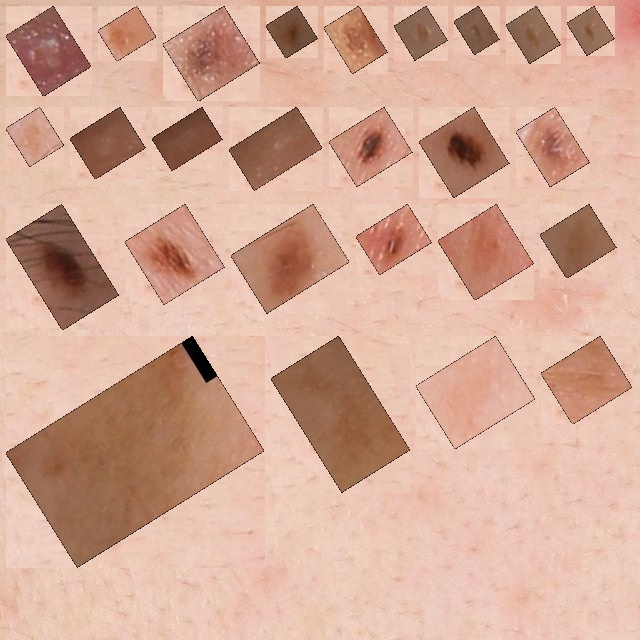hypertrophic_scar: (240, 118, 311, 179), (81, 118, 134, 168), (163, 118, 211, 159)
melasma: (17, 347, 253, 556), (282, 347, 399, 481), (427, 347, 524, 438), (242, 215, 338, 302), (449, 215, 523, 289), (552, 347, 621, 413), (551, 215, 605, 267), (335, 17, 376, 62), (17, 118, 53, 155), (517, 17, 549, 52), (405, 17, 436, 49), (578, 17, 603, 44), (465, 17, 488, 43)
nevus: (17, 215, 108, 319), (136, 215, 213, 293), (174, 17, 249, 90), (430, 118, 498, 186), (340, 118, 401, 175), (527, 118, 578, 175), (367, 215, 421, 263), (277, 17, 306, 47)
pustule: (17, 17, 80, 85)
